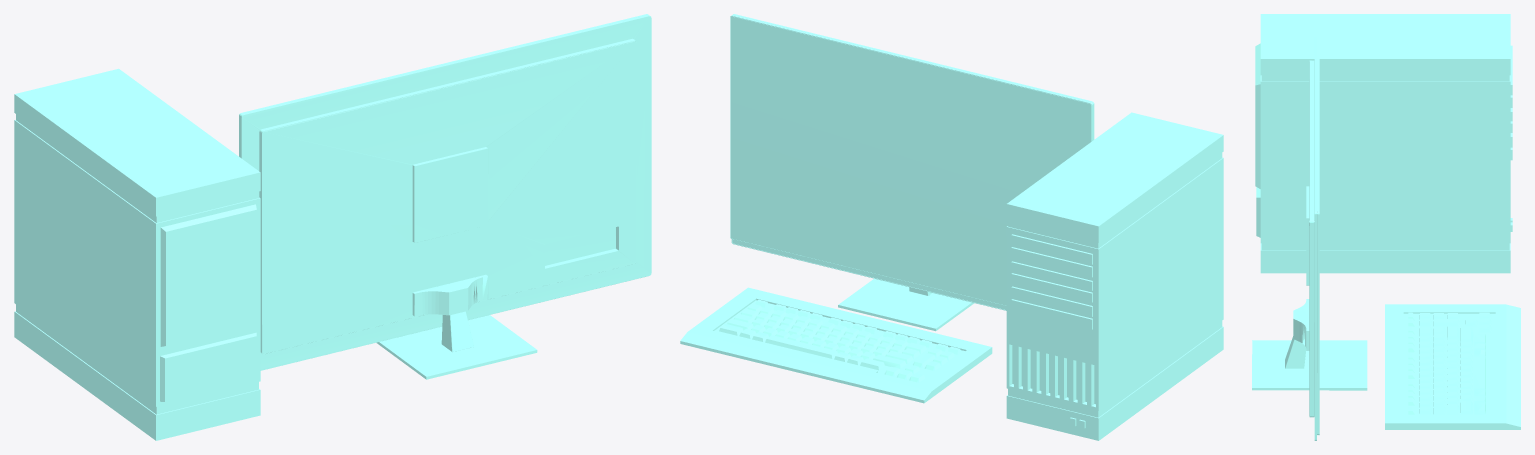
3 views of the same model, side by side, from view 1: azimuth 30°, elevation 25°; view 2: azimuth 150°, elevation 25°; view 3: azimuth 270°, elevation 25° (orthographic). The views are drawn at different scales.
Visible parts, largest first — view 1: pc; view 2: pc; view 3: pc.
Boxes of the visible parts, box(x1,y1,x2,y2) form: pc: box(14, 14, 651, 440); pc: box(680, 14, 1223, 440); pc: box(1252, 14, 1520, 440).
Bounding box in the file's own units: 441 × 220 × 221.
